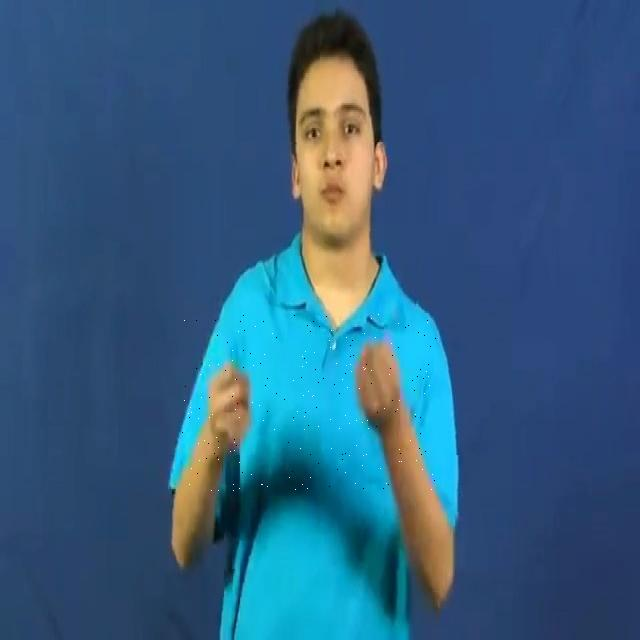drive: (182, 314, 436, 492)
